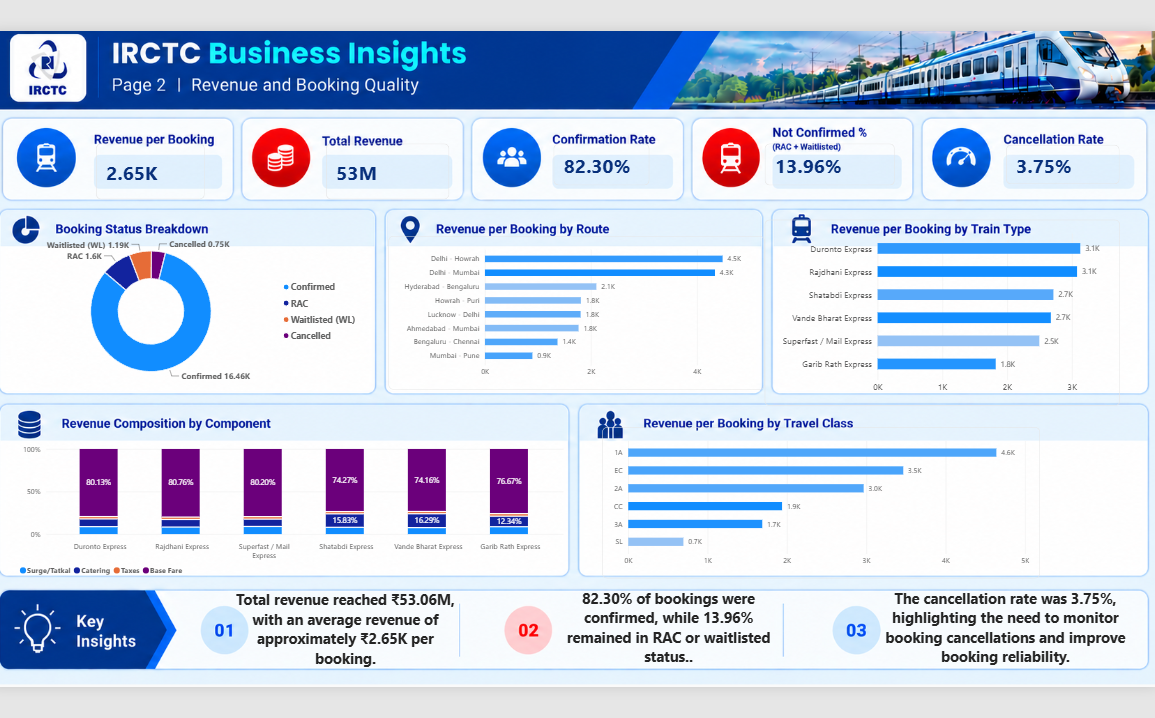

Layout of this report page (visuals, bound fields, positions):
{"tool":"powerbi","page":{"name":"Revenue and Booking Quality","canvas":[1920,1080],"ordinal":1},"visuals":[{"type":"donutChart","title":"Booking Status_Breakdown","fields":{"Category":["irctc_Data.Booking_Status"],"Y":["CountNonNull(irctc_Data.Booking_ID)"]},"box":[30.9,314.9,594.9,294.3],"z":0},{"type":"clusteredBarChart","title":"Revenue per Booking by Train Type","fields":{"Category":["irctc_Data.Train_Type"],"Y":["irctc_Data.Revenue per Booking"]},"box":[1274.1,310.8,584.6,306.7],"z":1000},{"type":"hundredPercentStackedColumnChart","title":"Revenue Composition by  Component","fields":{"Category":["irctc_Data.Train_Type"],"Y":["Sum(irctc_Data.Surge_Tatkal_Charges_INR)","Sum(irctc_Data.Catering_Charges_INR)","Sum(irctc_Data.Taxes_And_Convenience_INR)","Sum(irctc_Data.Base_Fare_INR)"]},"box":[30.9,664.8,928.3,253.2],"z":2000},{"type":"clusteredBarChart","title":"Revenue Per Booking By Travel Class ","fields":{"Category":["irctc_Data.Travel_Class"],"Y":["irctc_Data.Revenue per Booking"]},"box":[1006.5,652.5,720.4,249.1],"z":3000},{"type":"clusteredBarChart","fields":{"Category":["irctc_Data.Route"],"Y":["irctc_Data.Revenue per Booking"]},"box":[654.5,337.6,619.6,253.2],"z":4000},{"type":"cardVisual","fields":{"Data":["irctc_Data.Revenue per Booking"]},"box":[172.9,185.2,179.1,92.6],"z":5000},{"type":"cardVisual","fields":{"Data":["irctc_Data.Total_Revenue"]},"box":[551.6,185.2,203.8,92.6],"z":6000},{"type":"cardVisual","fields":{"Data":["irctc_Data.Confirmation Rate"]},"box":[926.2,185.2,158.5,70],"z":7000},{"type":"cardVisual","fields":{"Data":["irctc_Data.Cancellation Rate %"]},"box":[1671.4,187.3,187.3,65.9],"z":8000},{"type":"cardVisual","fields":{"Data":["irctc_Data.Not Confirmed %"]},"box":[1274.1,185.2,214.1,70],"z":9000},{"type":"textbox","box":[393.1,901.5,380.8,148.2],"z":10000},{"type":"textbox","box":[926.2,918,378.7,131.7],"z":11000},{"type":"textbox","box":[1455.2,918,430.2,131.7],"z":12000}]}

Visuals, with their boxes on the page's 1920x1080 design canvas (x1, y1, x2, y2). These are canvas units, not pixel positions in the 1155x718 screenshot, which may show the page scaled, cropped or inside an application window:
"Booking Status_Breakdown" donutChart: rect(31, 315, 626, 609)
"Revenue per Booking by Train Type" clusteredBarChart: rect(1274, 311, 1859, 618)
"Revenue Composition by  Component" hundredPercentStackedColumnChart: rect(31, 665, 959, 918)
"Revenue Per Booking By Travel Class " clusteredBarChart: rect(1006, 652, 1727, 902)
clusteredBarChart - irctc_Data.Route x irctc_Data.Revenue per Booking: rect(654, 338, 1274, 591)
cardVisual - irctc_Data.Revenue per Booking: rect(173, 185, 352, 278)
cardVisual - irctc_Data.Total_Revenue: rect(552, 185, 755, 278)
cardVisual - irctc_Data.Confirmation Rate: rect(926, 185, 1085, 255)
cardVisual - irctc_Data.Cancellation Rate %: rect(1671, 187, 1859, 253)
cardVisual - irctc_Data.Not Confirmed %: rect(1274, 185, 1488, 255)
textbox: rect(393, 902, 774, 1050)
textbox: rect(926, 918, 1305, 1050)
textbox: rect(1455, 918, 1885, 1050)
